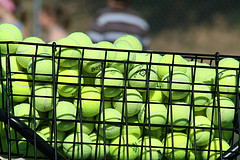tennis ball: (94, 107, 125, 140), (26, 52, 59, 82), (185, 114, 215, 147), (161, 131, 194, 160), (94, 67, 125, 97), (137, 100, 167, 130), (28, 83, 60, 111), (48, 100, 77, 130), (127, 62, 157, 91), (205, 96, 235, 125), (53, 37, 81, 68), (160, 71, 190, 99), (107, 133, 139, 159), (62, 132, 93, 158), (1, 23, 23, 53)
